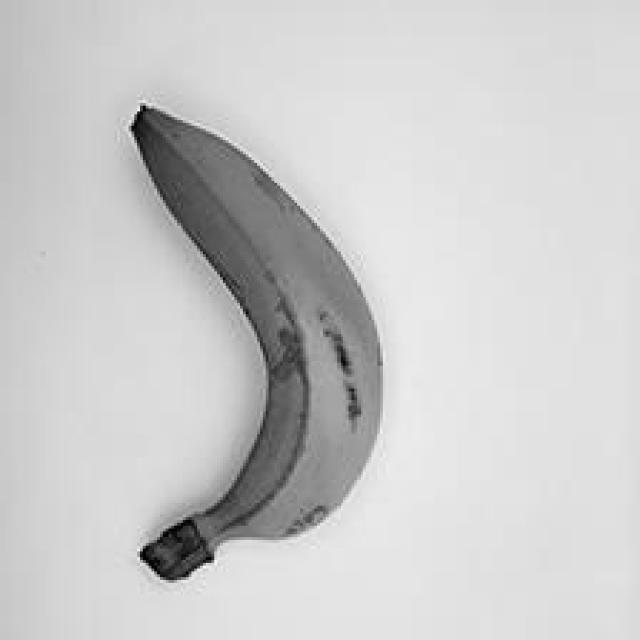Raw: (90, 88, 406, 600)
